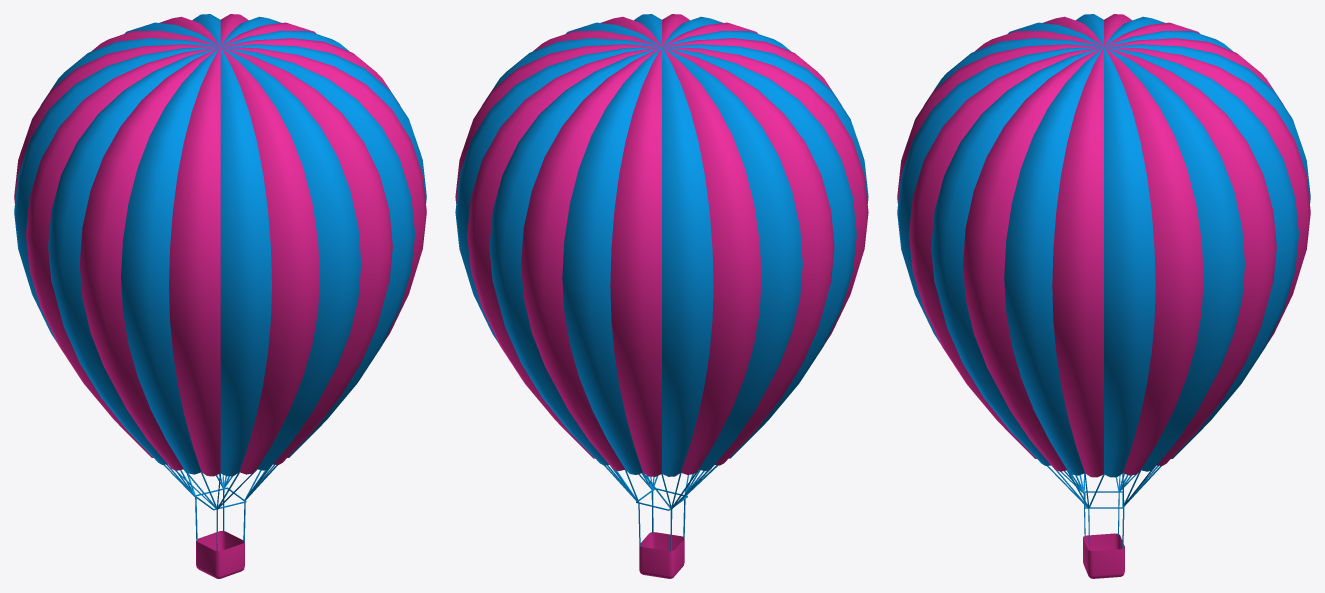
File: balloonRight.glb
3 views of the same model, side by side, from view 1: azimuth 30°, elevation 25°; view 2: azimuth 150°, elevation 25°; view 3: azimuth 270°, elevation 25° (orthographic).
Visible parts, largest first — view 1: Sphere.001, Cube.005, Sphere.004; view 2: Sphere.001, Cube.005, Sphere.004; view 3: Sphere.001, Cube.005, Sphere.004.
Boxes of the visible parts, bbox=[...] form: Sphere.001: bbox=[14, 14, 426, 476]; Cube.005: bbox=[196, 531, 244, 578]; Sphere.004: bbox=[163, 464, 277, 551]; Sphere.001: bbox=[455, 14, 868, 476]; Cube.005: bbox=[639, 532, 684, 578]; Sphere.004: bbox=[604, 465, 718, 551]; Sphere.001: bbox=[897, 14, 1310, 477]; Cube.005: bbox=[1083, 533, 1124, 578]; Sphere.004: bbox=[1047, 465, 1161, 550].
Bounding box in the file's own units: 37.87 × 53.04 × 37.87.
